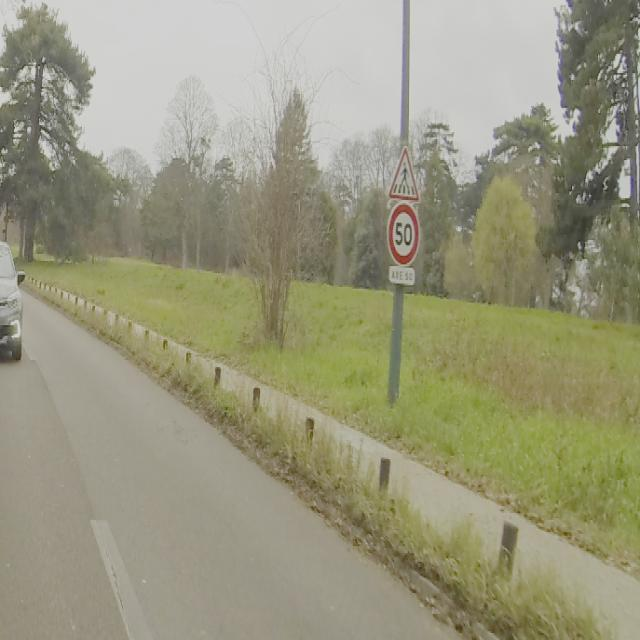speed_50: (385, 198, 422, 270)
